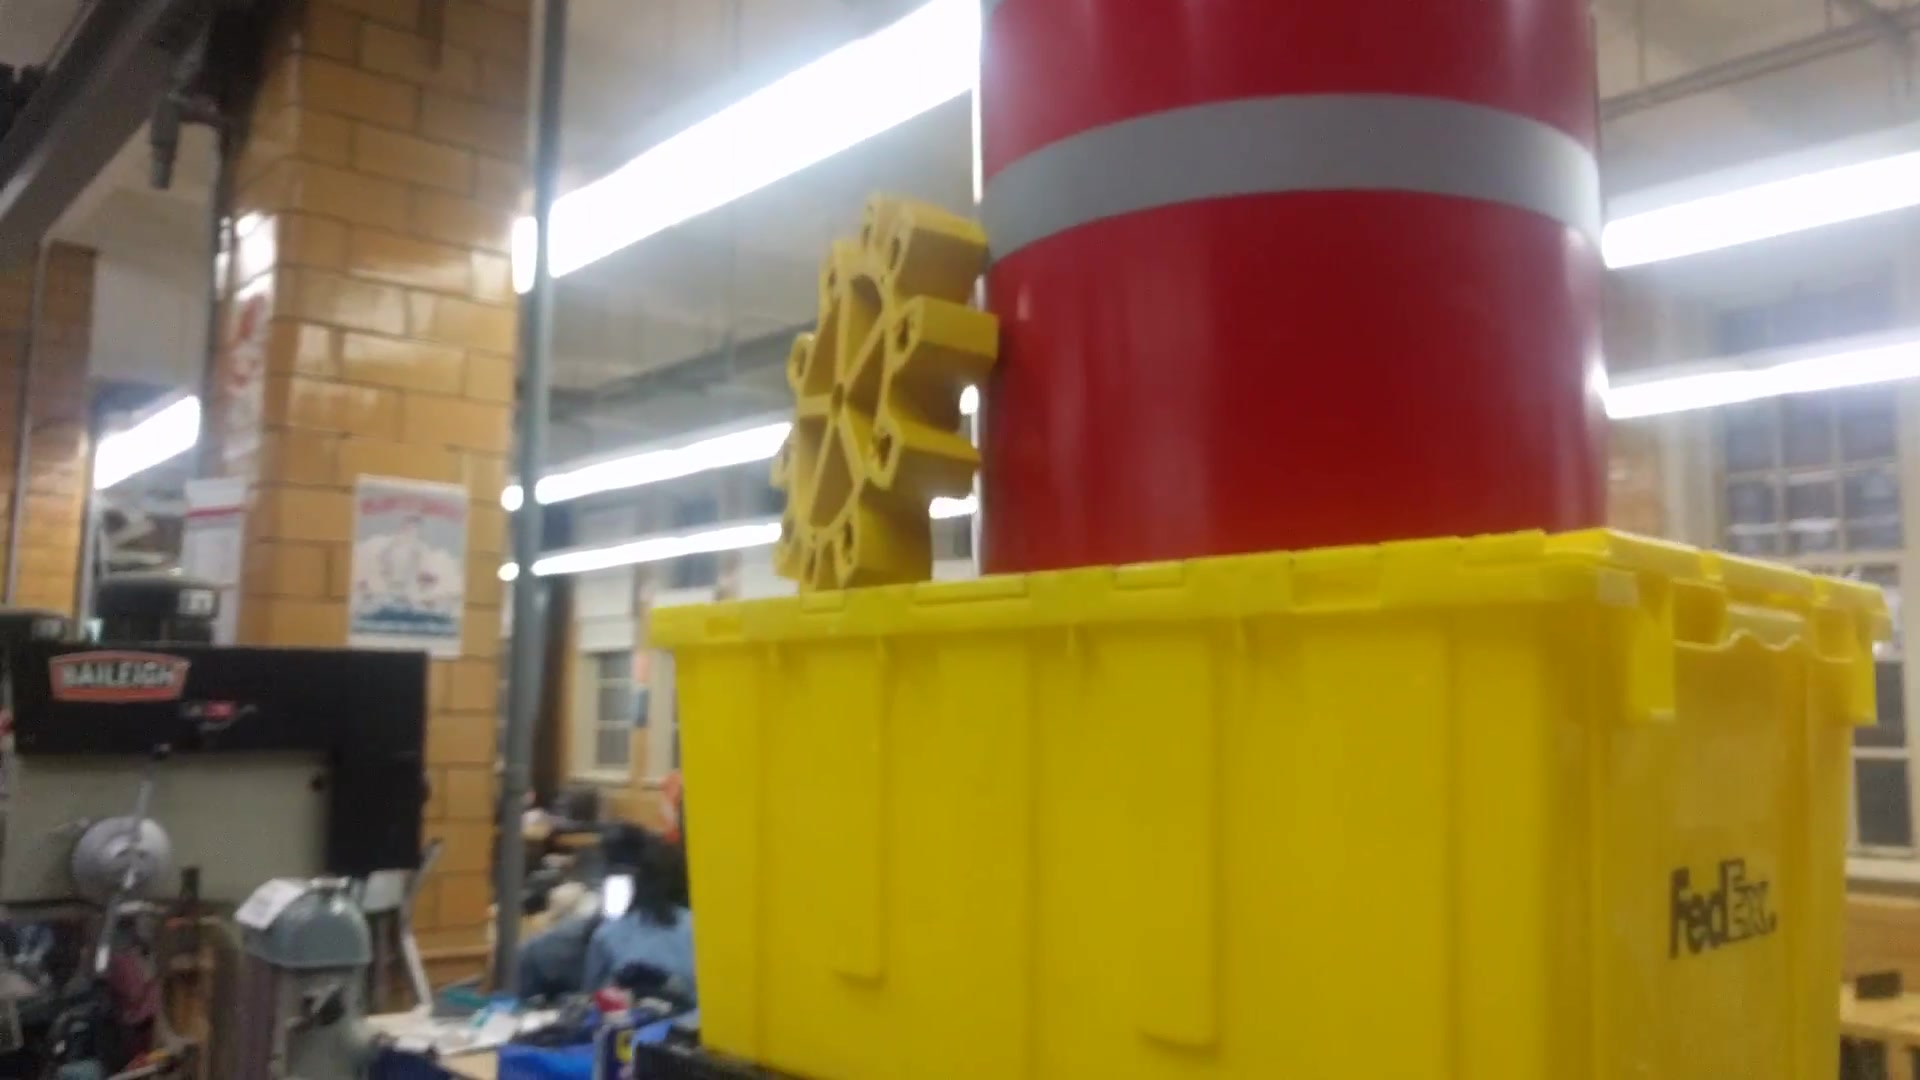gear: (764, 185, 1007, 597)
